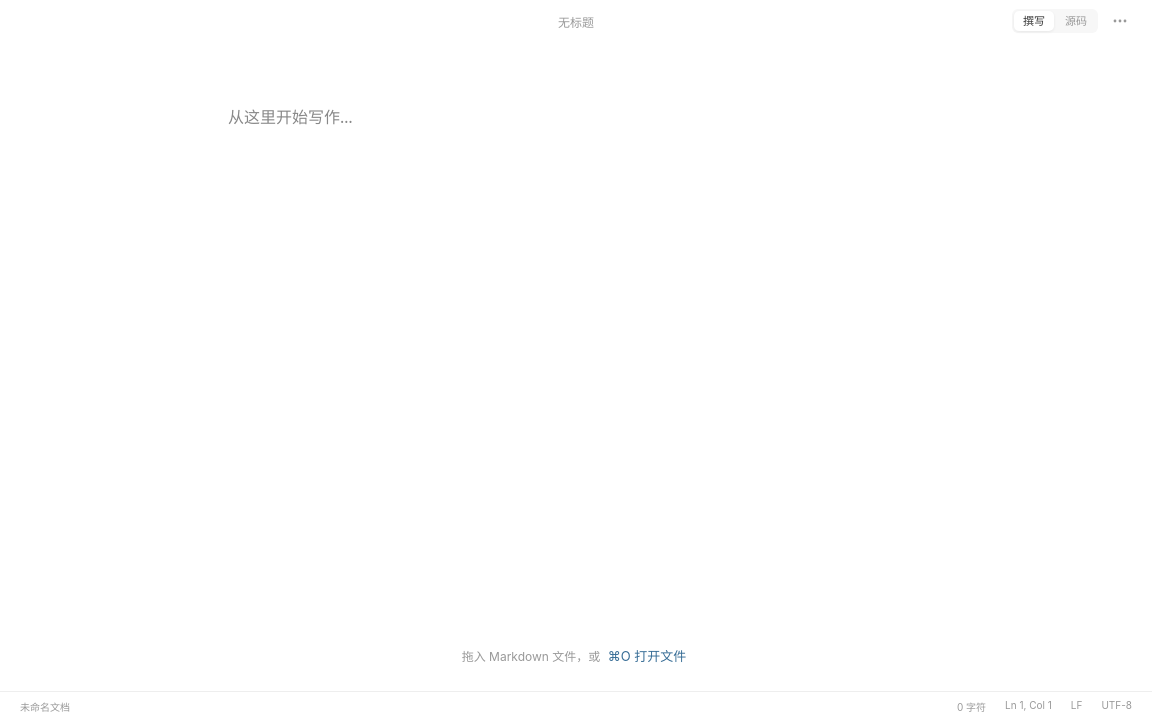
Test case: reports history read failures in the recent files dialog
Expected: the field named "文档编辑器" is shown, [228,106,353,128]
Step 1. Click the button named "文档操作" → (1120, 21), box [1106,7,1134,35]
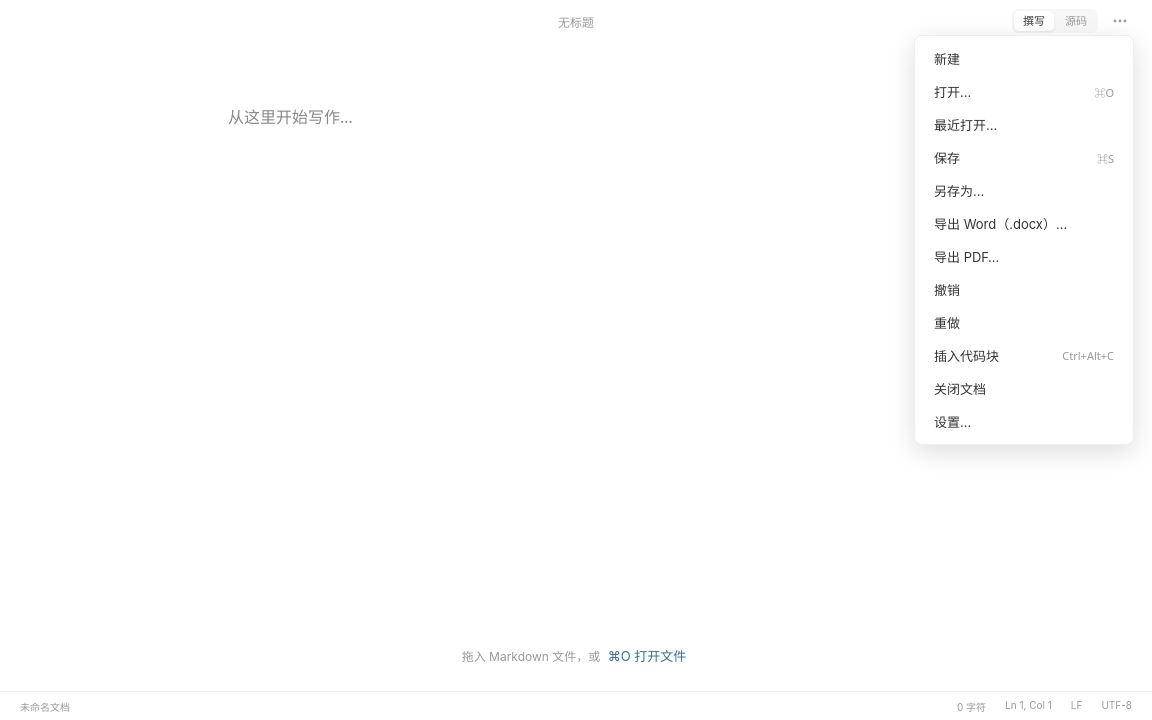
Step 2. Click the button "最近打开…" → (1024, 124), box [921,108,1127,141]
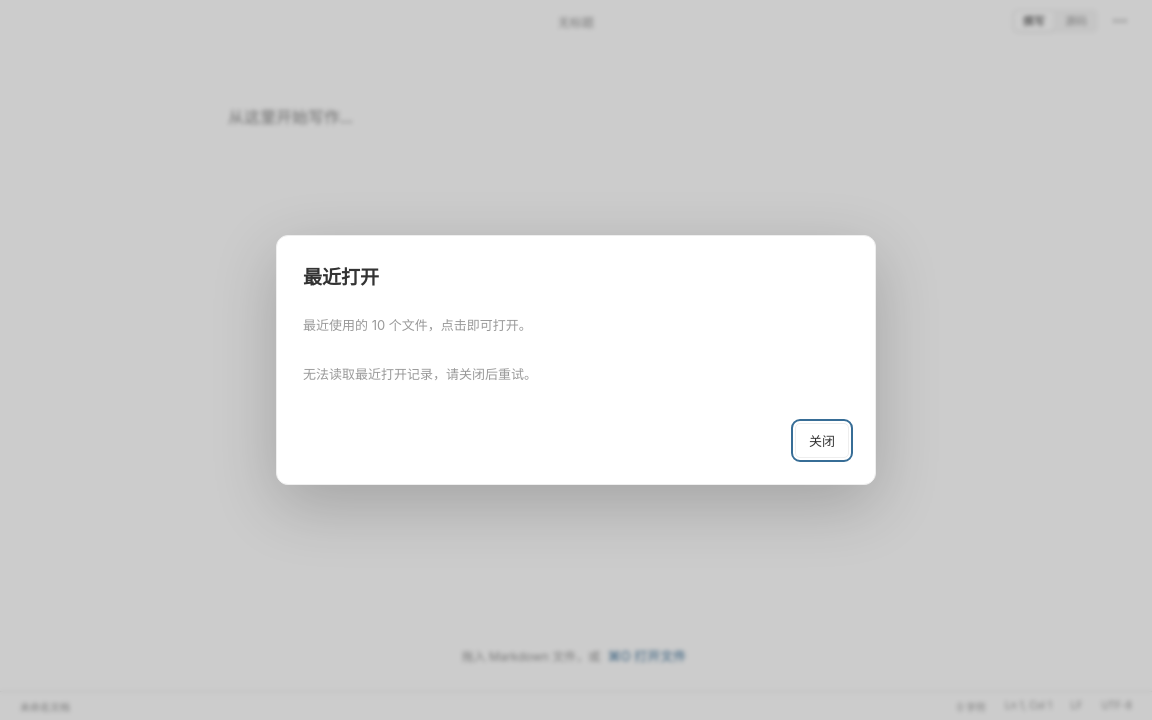
Expected: the message shows "无法读取最近打开记录", [303,366,537,382]
